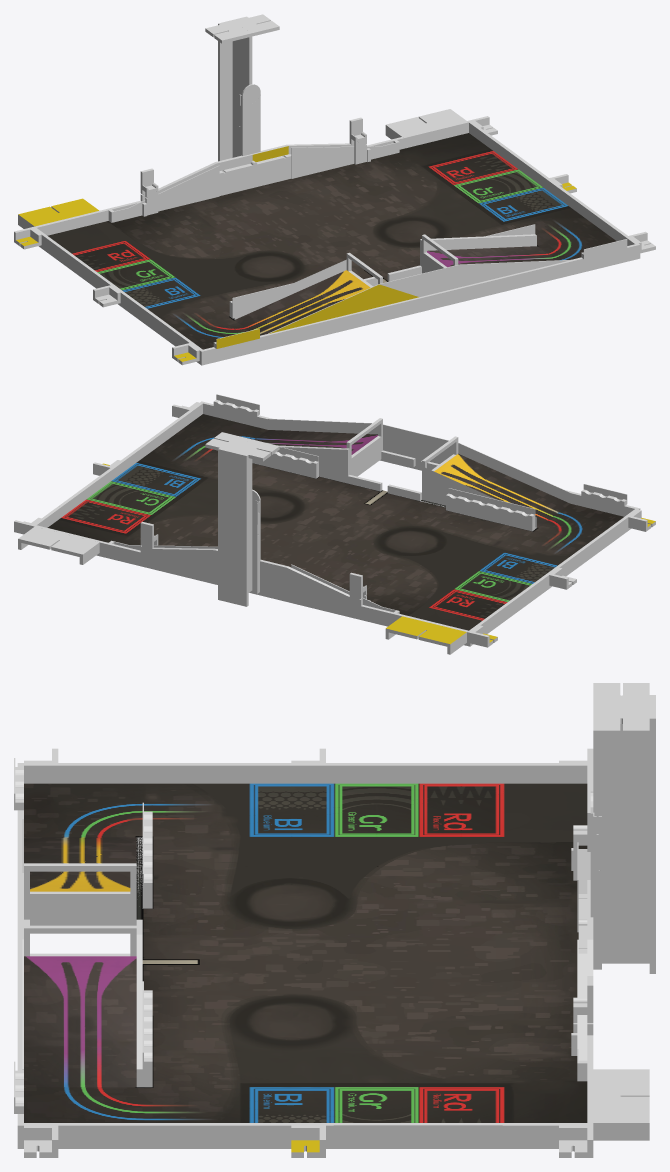
File: table_my_ground_v1.1.dae
3 renders of one model, top to bottom at view 1: azimuth 30°, elevation 25°; view 2: azimuth 150°, elevation 25°; view 3: azimuth 270°, elevation 25°, orthographic. The views are drawn at different scales.
Parts seen in each view (by area): view 1: ground, table, ramp_2, ramp_1; view 2: ground, table, ramp_2, ramp_1; view 3: ground, table, ramp_1, ramp_2.
Part boxes in pixels (bbox=[...]): ground: bbox=[47, 133, 616, 349]; table: bbox=[14, 14, 655, 365]; ramp_2: bbox=[235, 270, 370, 335]; ramp_1: bbox=[427, 246, 555, 267]; ground: bbox=[47, 414, 623, 630]; table: bbox=[14, 394, 655, 654]; ramp_2: bbox=[434, 453, 569, 527]; ramp_1: bbox=[254, 430, 377, 454]; ground: bbox=[24, 783, 587, 1122]; table: bbox=[14, 683, 655, 1157]; ramp_1: bbox=[24, 956, 136, 1087]; ramp_2: bbox=[24, 837, 136, 891].
Bounding box in the file's own units: 3.29 × 2.28 × 1.02.
